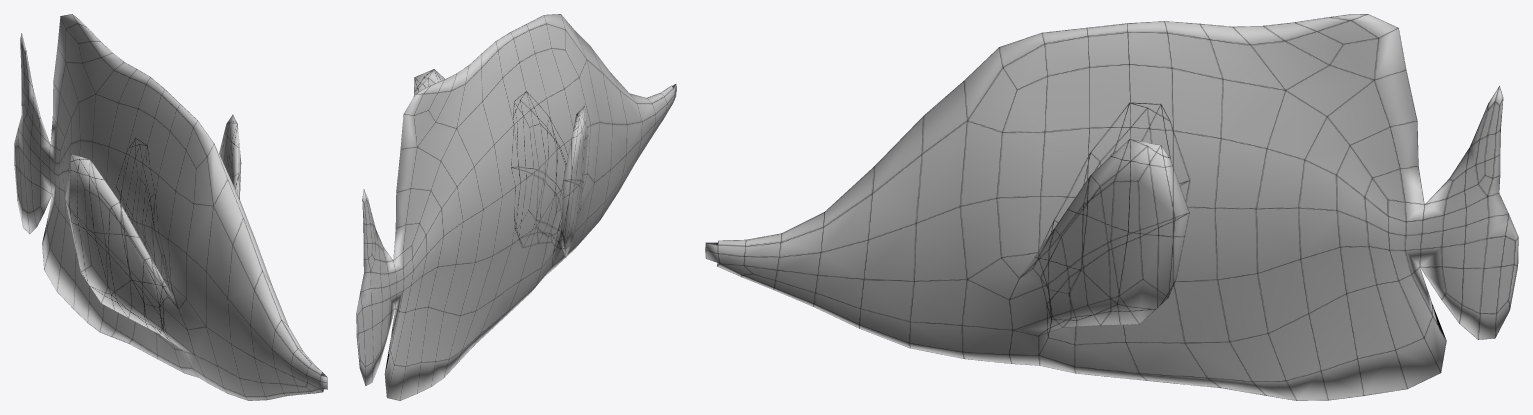
The model's file is Yellowanglefish.fbx.
3 views of the same model, side by side, from view 1: azimuth 30°, elevation 25°; view 2: azimuth 150°, elevation 25°; view 3: azimuth 270°, elevation 25° (orthographic). The views are drawn at different scales.
Parts seen in each view (by area): view 1: yellowanglefish; view 2: yellowanglefish; view 3: yellowanglefish.
Boxes of the visible parts, box(x1,y1,x2,y2) form: yellowanglefish: box(14, 14, 327, 400); yellowanglefish: box(356, 14, 676, 400); yellowanglefish: box(705, 14, 1518, 400).
Size of the model in its own units: 171 by 300 by 572.
Materials: 1 (1 with a texture image).
